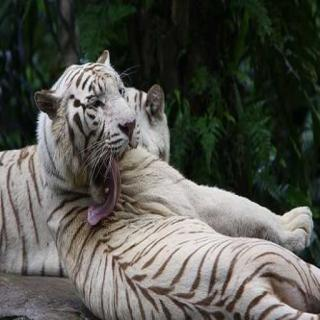Tiger: (26, 55, 320, 320), (0, 30, 153, 315)
